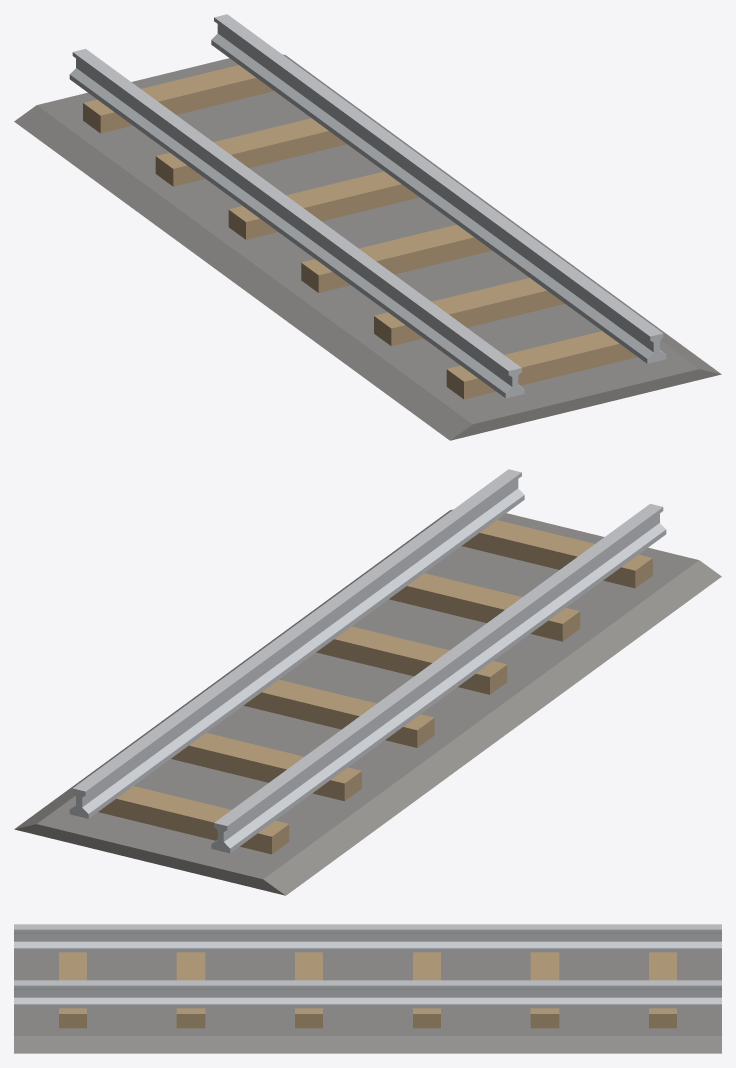
File: underground-mine-and-shaft-works-track-narrow-straight-c7db920f.glb
3 renders of one model, top to bottom at view 1: azimuth 30°, elevation 25°; view 2: azimuth 150°, elevation 25°; view 3: azimuth 270°, elevation 25°, orthographic. The views are drawn at different scales.
Visible parts, largest first — view 1: track-narrow-straight; view 2: track-narrow-straight; view 3: track-narrow-straight.
Part boxes in pixels (bbox=[...]): track-narrow-straight: bbox=[14, 14, 721, 440]; track-narrow-straight: bbox=[14, 469, 721, 895]; track-narrow-straight: bbox=[14, 924, 721, 1053].
Bounding box in the file's own units: 1.44 × 0.28 × 4.
